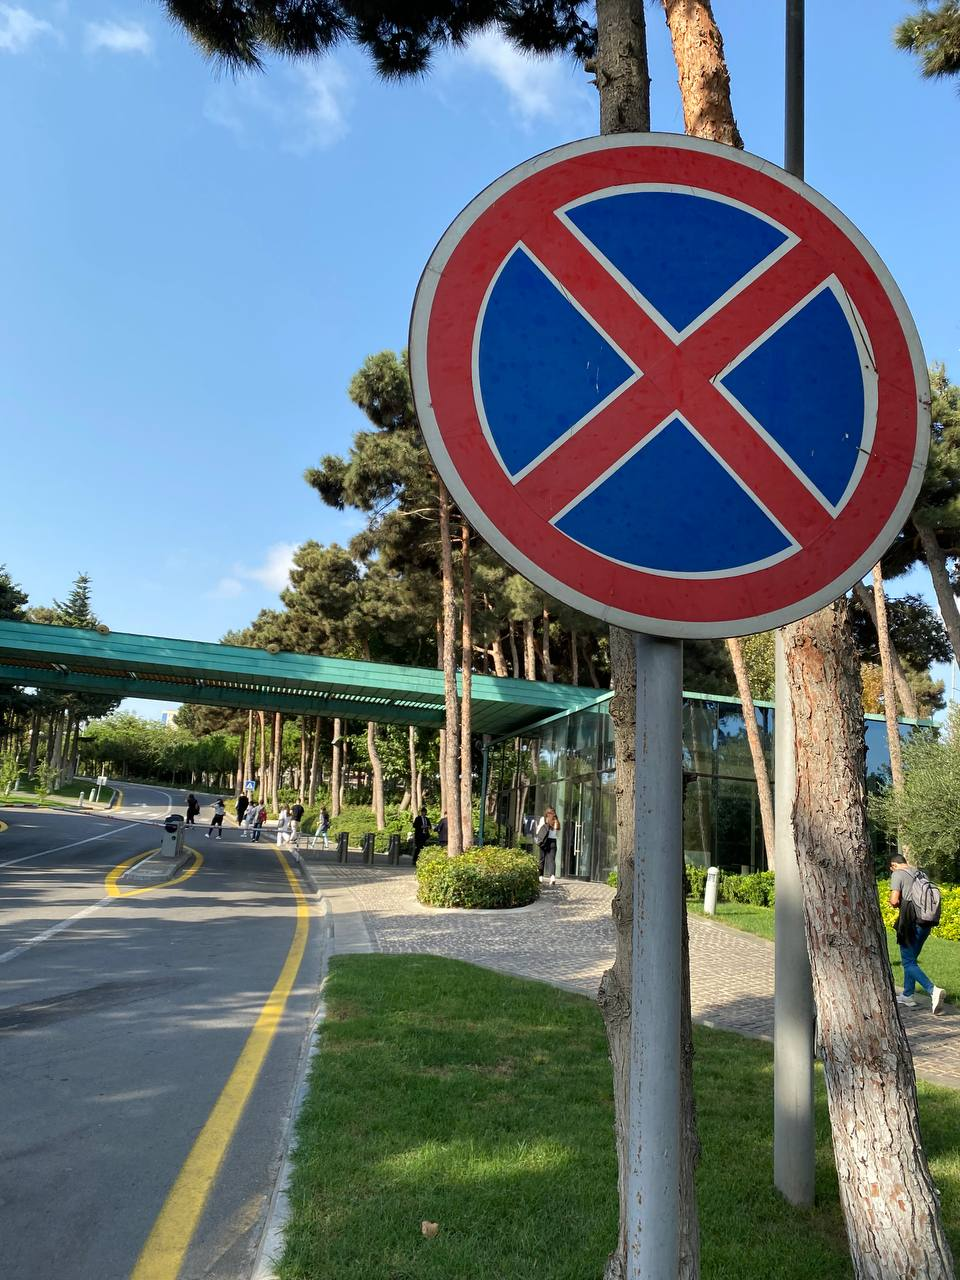No Parking: (407, 132, 933, 641)
